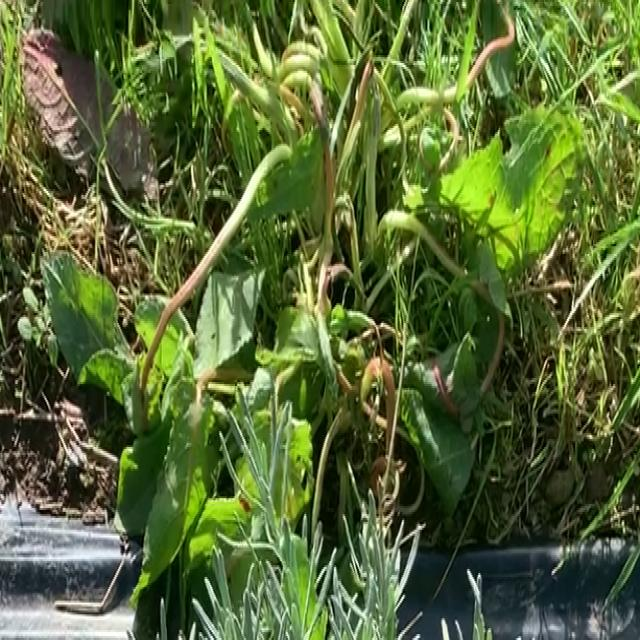organic waste: (17, 0, 592, 640)
